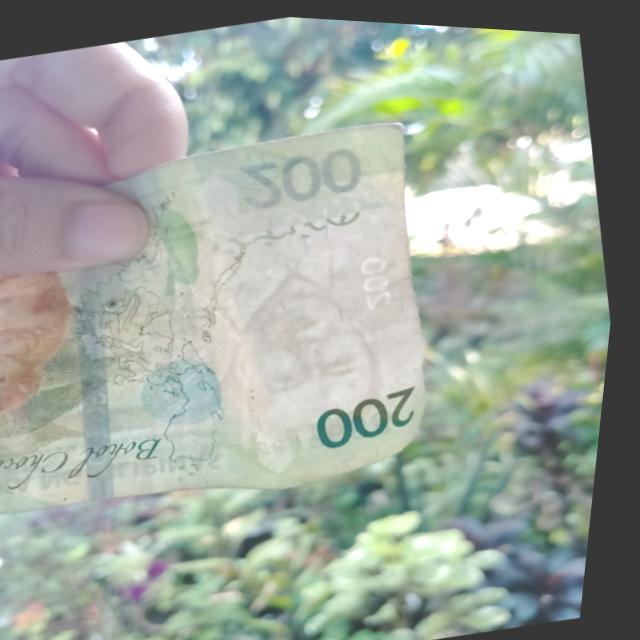security_thread: (57, 263, 151, 503)
see_through_mark: (203, 184, 376, 267)
value_watermark: (349, 241, 415, 316)
watermark: (190, 210, 423, 455)
